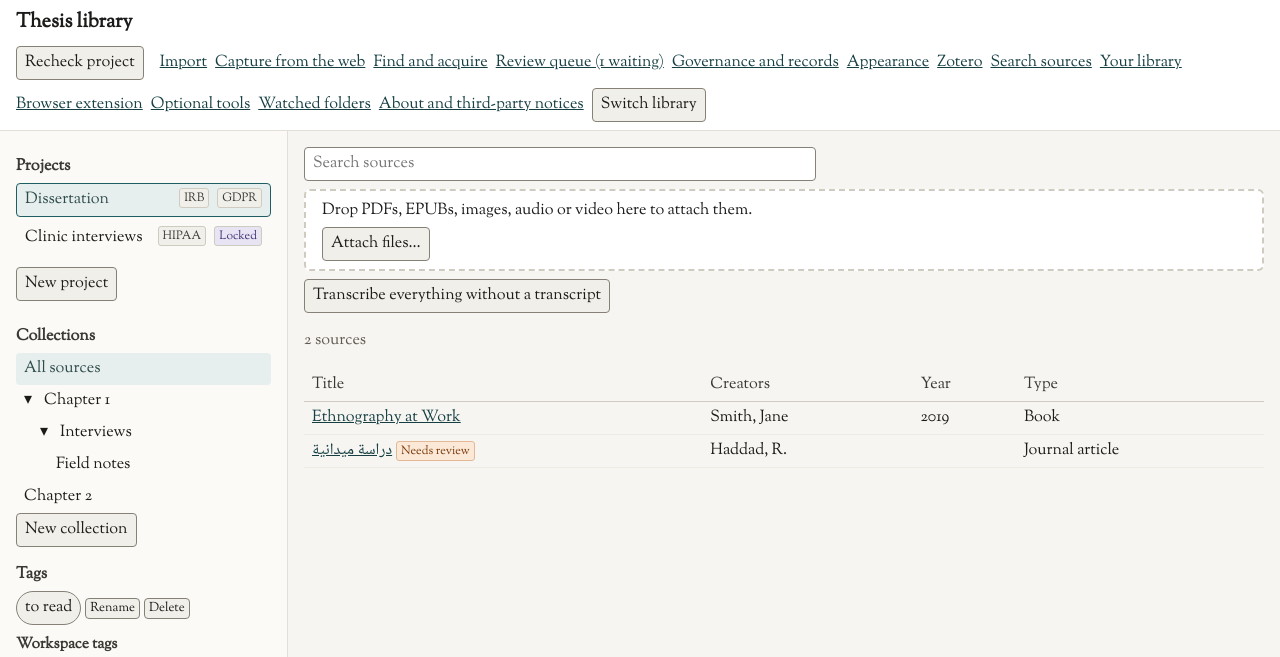
Test: the app's one router (R118) › Governance and records opens the Task 36 screens for the library's project, with Back to library
The width and height of the screenshot is (1280, 657).
Click the link "Governance and records".
click(755, 63)  # box [672, 51, 839, 75]
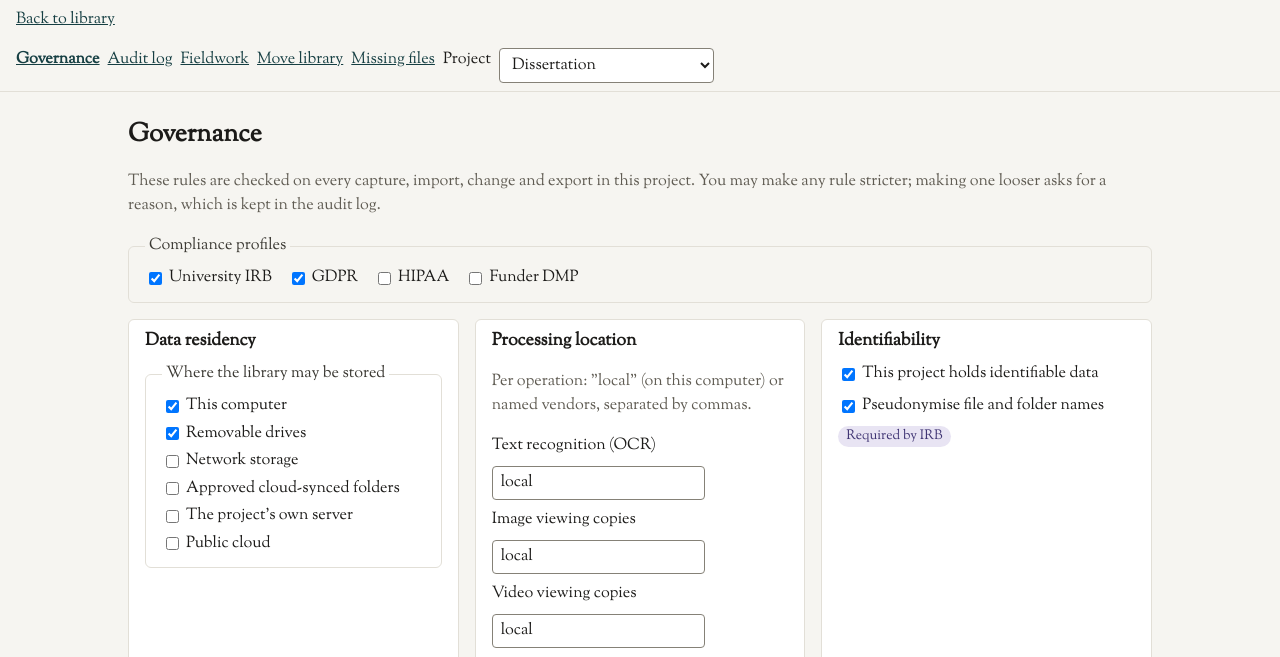
Check: the navigation bar named "Governance and library" is shown, box [0, 40, 1279, 92]
Click the link "Back to library".
click(65, 20)  # box [16, 8, 115, 31]
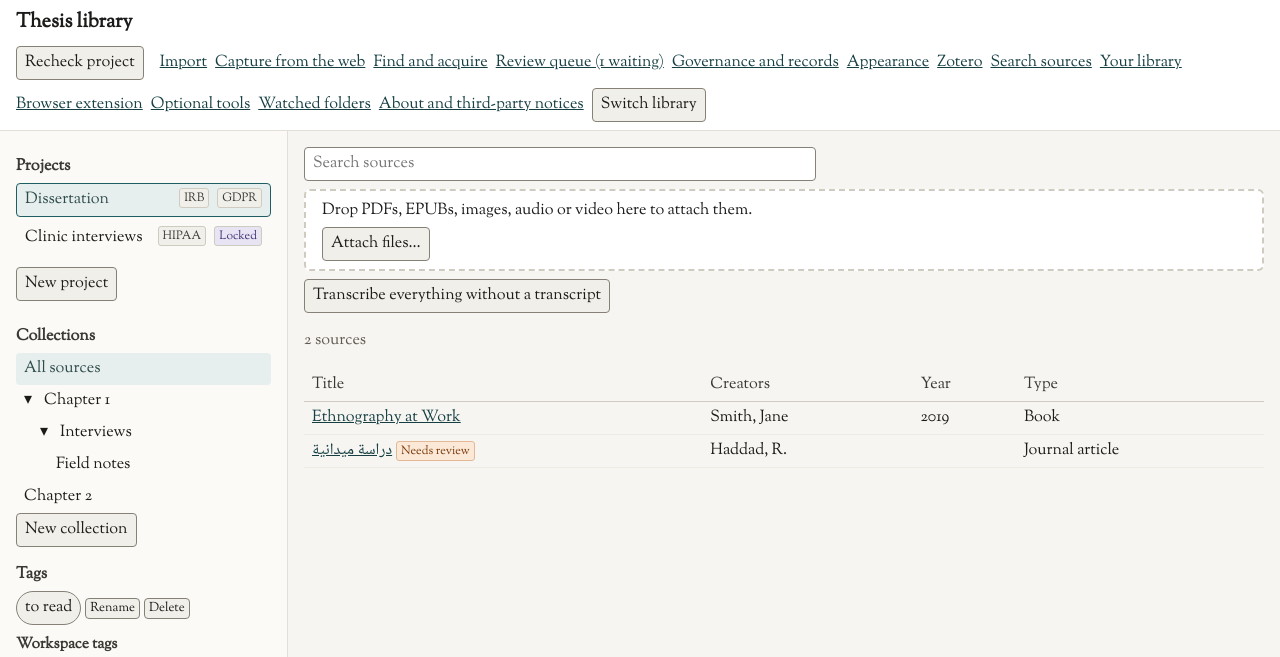
Check: the navigation bar "Projects" is shown, box [16, 155, 271, 255]
